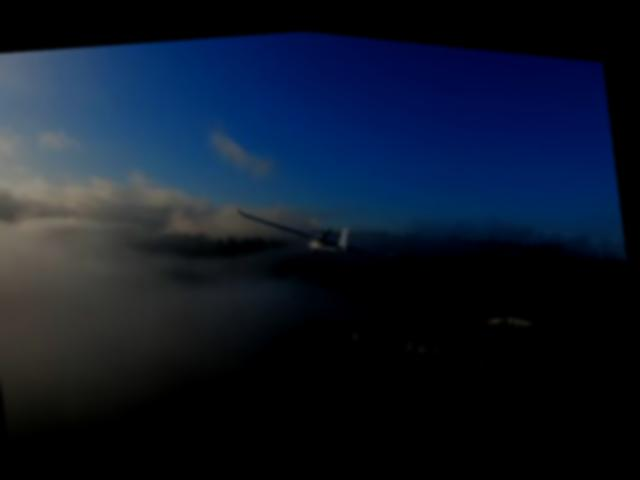uav: (228, 167, 408, 293)
